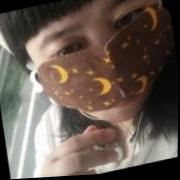WRONG: (25, 1, 178, 141)
